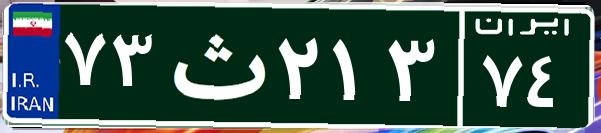1: (330, 28, 385, 110)
2: (273, 28, 330, 110)
3: (385, 28, 445, 110), (110, 28, 158, 105)
4: (525, 38, 570, 115)
7: (57, 26, 110, 107), (475, 38, 525, 113)
ث: (158, 15, 273, 115)
